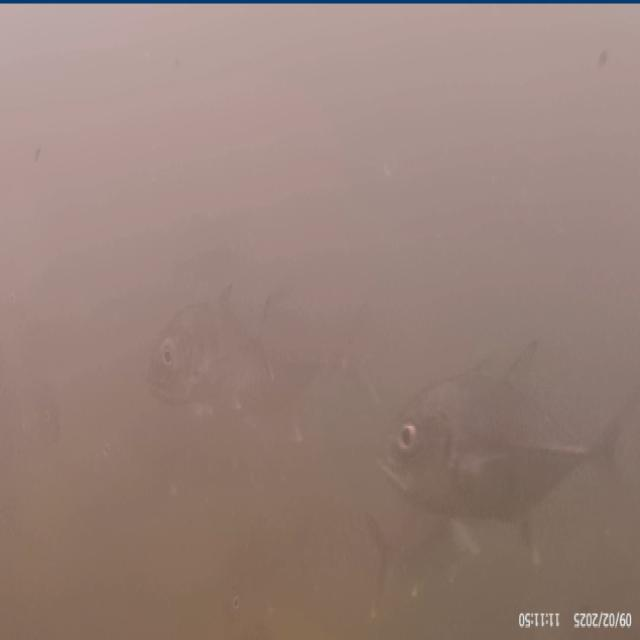ikan: (365, 310, 585, 558), (124, 256, 302, 437)
